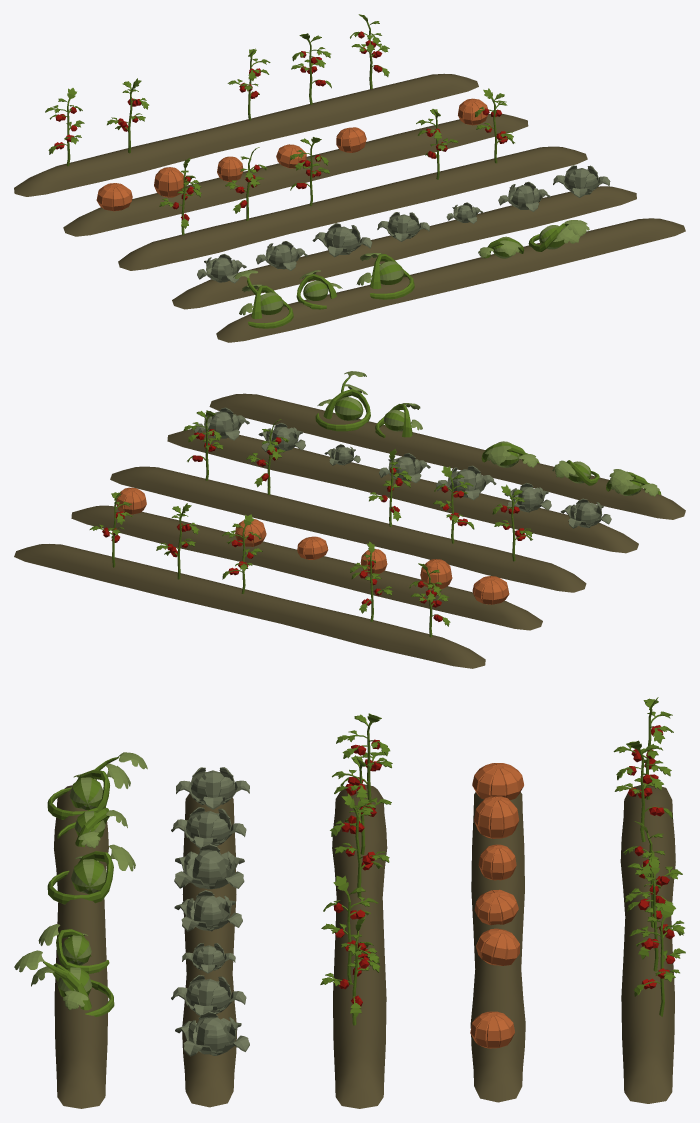
The model's file is crops.glb.
3 views of the same model, one above another, from view 1: azimuth 30°, elevation 25°; view 2: azimuth 150°, elevation 25°; view 3: azimuth 270°, elevation 25° (orthographic). The views are drawn at different scales.
Bounding box in the file's own units: 1.79 × 0.3227 × 1.56.
